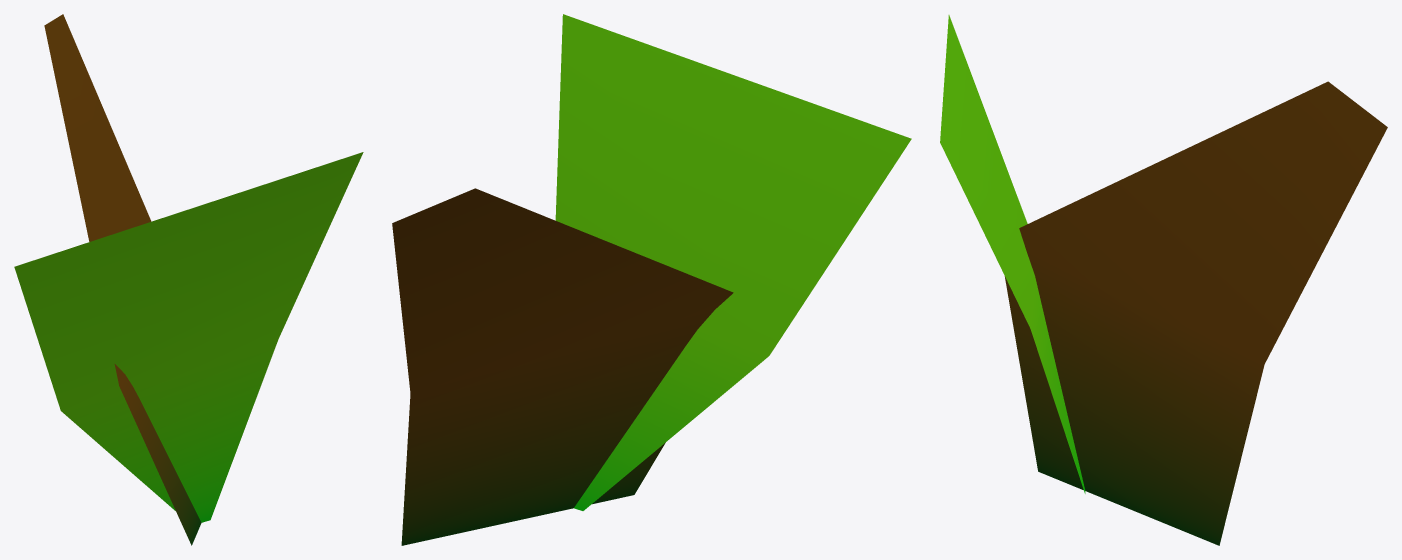
Rendered from Seaweed_LOD2_Var3_sdpjN.fbx.
3 renders of one model, left to right at view 1: azimuth 30°, elevation 25°; view 2: azimuth 150°, elevation 25°; view 3: azimuth 270°, elevation 25°, orthographic. The views are drawn at different scales.
Parts seen in each view (by area): view 1: _1e96_Var3_LOD2; view 2: _1e96_Var3_LOD2; view 3: _1e96_Var3_LOD2.
Boxes of the visible parts, x1,y1,x2,y2 form: _1e96_Var3_LOD2: (14,14,363,545); _1e96_Var3_LOD2: (392,14,911,545); _1e96_Var3_LOD2: (940,15,1387,545).
Size of the model in its own units: 15.54 by 17.56 by 17.63.
